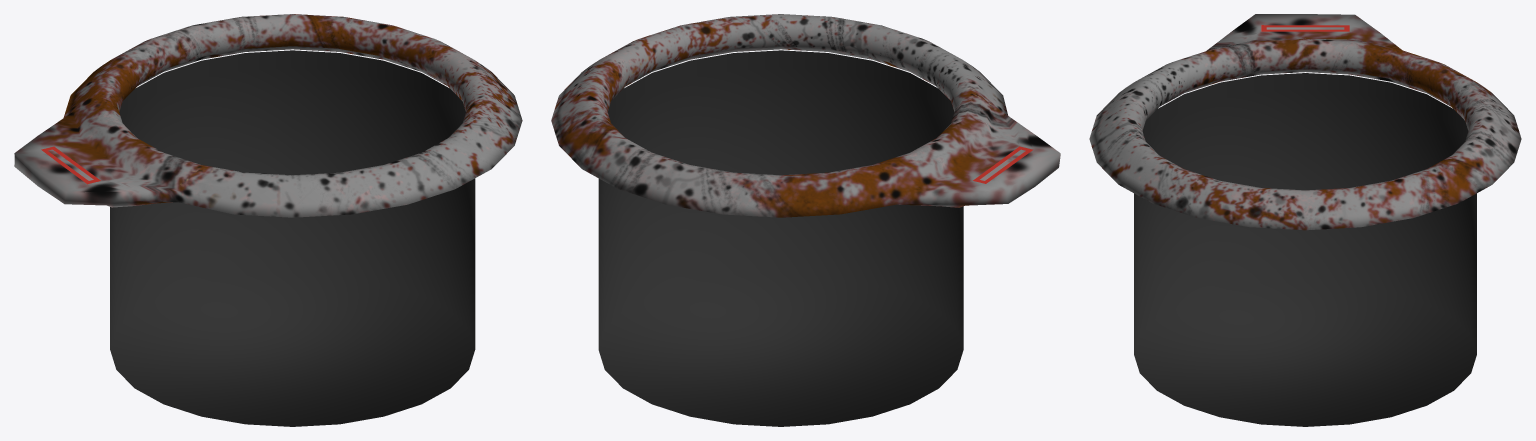
File: FBX_Hatch_Border.fbx
3 renders of one model, left to right at view 1: azimuth 30°, elevation 25°; view 2: azimuth 150°, elevation 25°; view 3: azimuth 270°, elevation 25°, orthographic. The views are drawn at different scales.
Visible parts, largest first — view 1: Toróide.006; view 2: Toróide.006; view 3: Toróide.006.
Boxes of the visible parts, x1,y1,x2,y2 form: Toróide.006: (14,14,522,426); Toróide.006: (551,14,1060,426); Toróide.006: (1089,14,1521,426).
Size of the model in its own units: 320 by 171 by 281.
3 materials, 1 textured.
